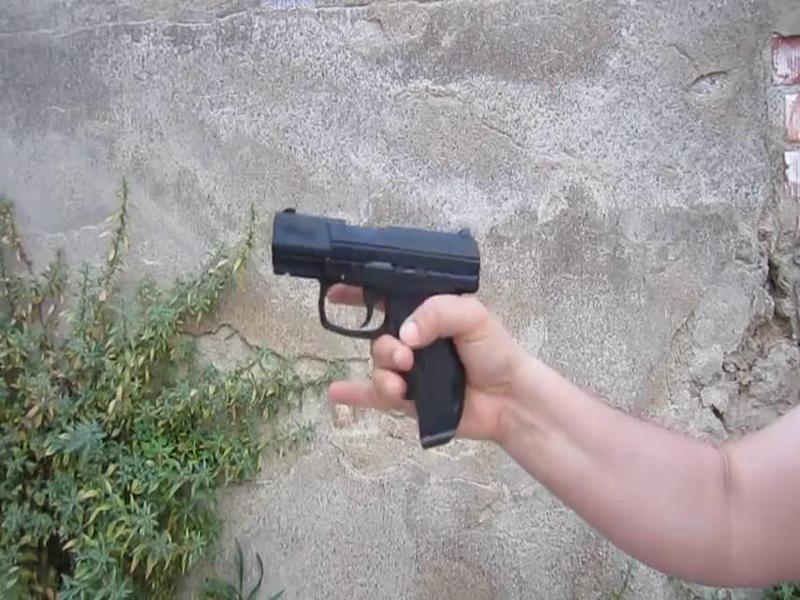Pistola: (256, 185, 525, 478)
